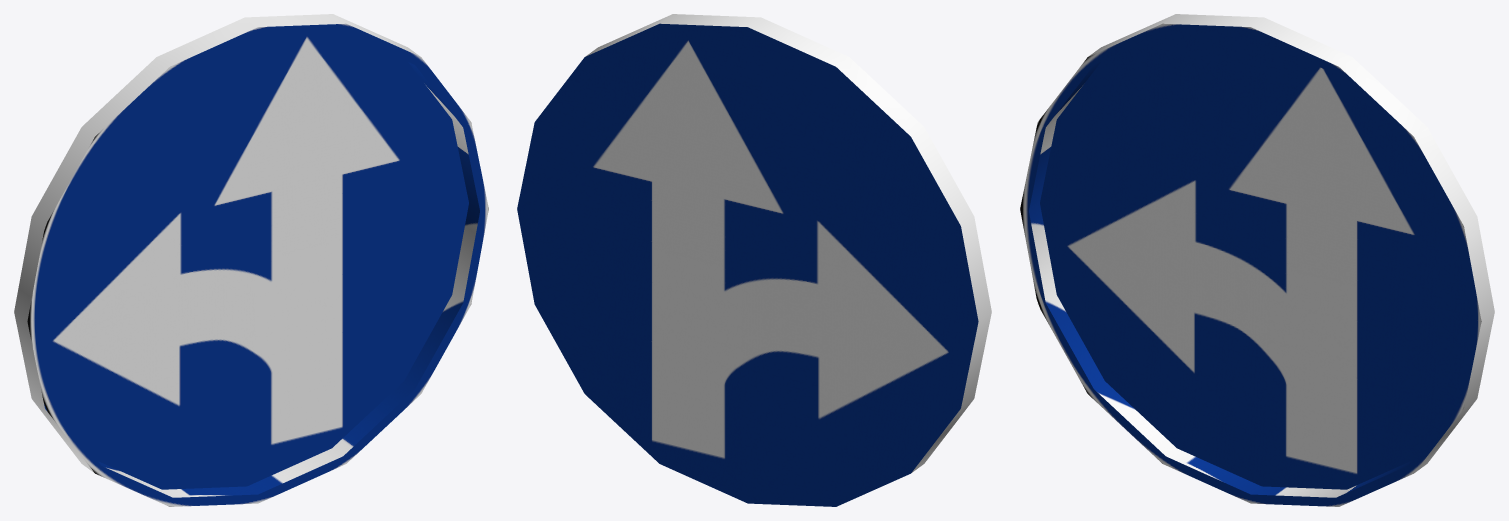
File: prawo prosto.fbx
3 renders of one model, left to right at view 1: azimuth 30°, elevation 25°; view 2: azimuth 150°, elevation 25°; view 3: azimuth 330°, elevation 25°, orthographic.
Visible parts, largest first — view 1: Prohibition_MaximumHeight_LOD0; view 2: Prohibition_MaximumHeight_LOD0; view 3: Prohibition_MaximumHeight_LOD0.
Boxes of the visible parts, left/top/right/bottom form: Prohibition_MaximumHeight_LOD0: left=14, top=14, right=488, bottom=506; Prohibition_MaximumHeight_LOD0: left=517, top=14, right=991, bottom=506; Prohibition_MaximumHeight_LOD0: left=1020, top=14, right=1494, bottom=506.
Size of the model in its own units: 70.96 by 70 by 3.55.
